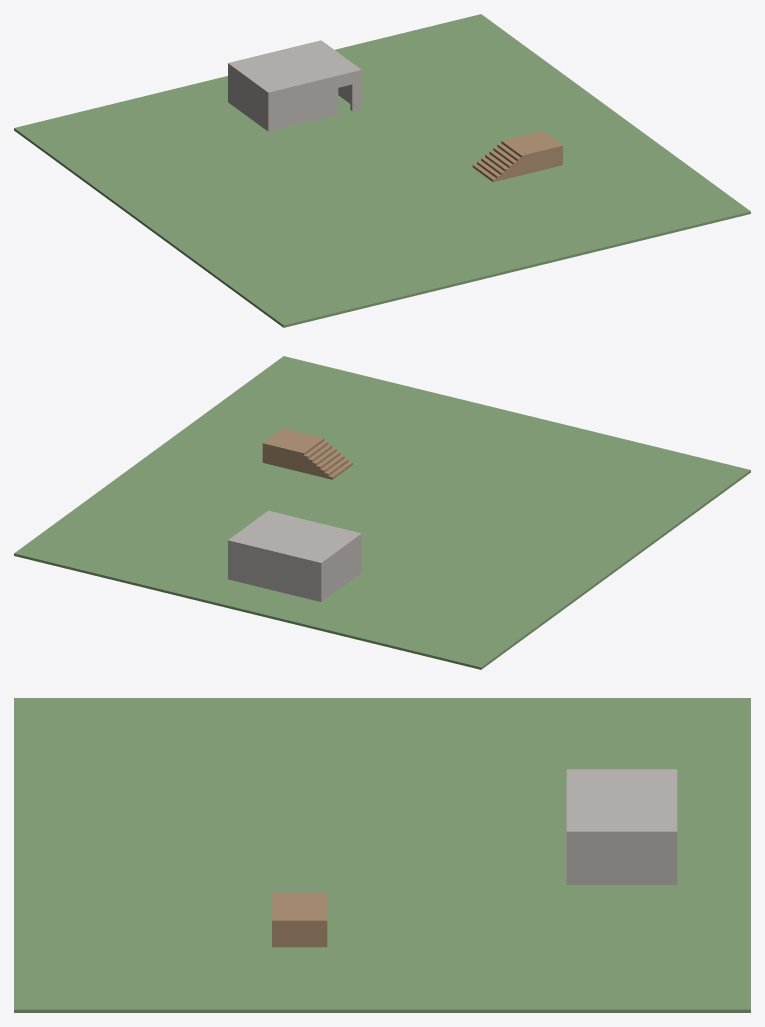
The model's file is walk-fixture.gltf.
3 views of the same model, one above another, from view 1: azimuth 30°, elevation 25°; view 2: azimuth 150°, elevation 25°; view 3: azimuth 270°, elevation 25° (orthographic). The views are drawn at different scales.
Parts seen in each view (by area): view 1: Floor, Building, Stairs; view 2: Floor, Building, Stairs; view 3: Floor, Building, Stairs.
Part boxes in pixels (bbox=[...]): Floor: bbox=[14, 14, 750, 327]; Building: bbox=[228, 40, 361, 131]; Stairs: bbox=[472, 131, 562, 182]; Floor: bbox=[14, 356, 750, 669]; Building: bbox=[228, 510, 361, 601]; Stairs: bbox=[262, 428, 352, 479]; Floor: bbox=[14, 698, 750, 1012]; Building: bbox=[566, 769, 677, 884]; Stairs: bbox=[272, 893, 327, 947].
Size of what is drawn, in the model's own units: 40 by 3.4 by 40.
